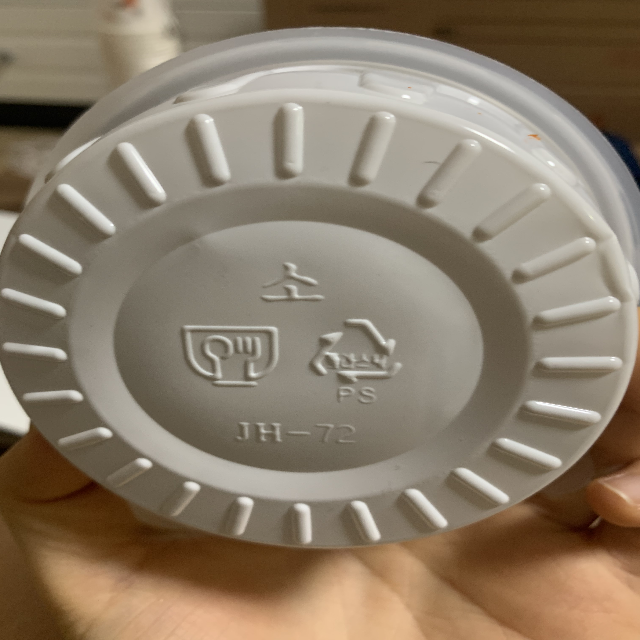ps: (309, 314, 403, 406)
